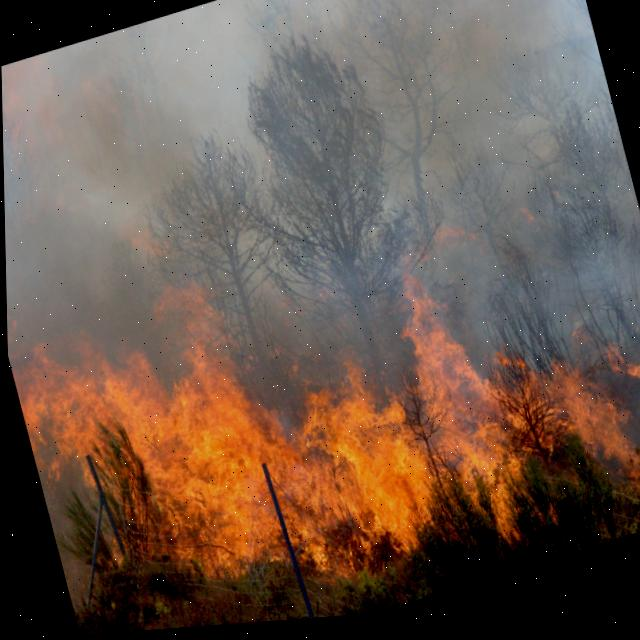fire: (11, 303, 545, 577)
smoke: (1, 30, 199, 381), (324, 0, 572, 236), (127, 0, 269, 160)
